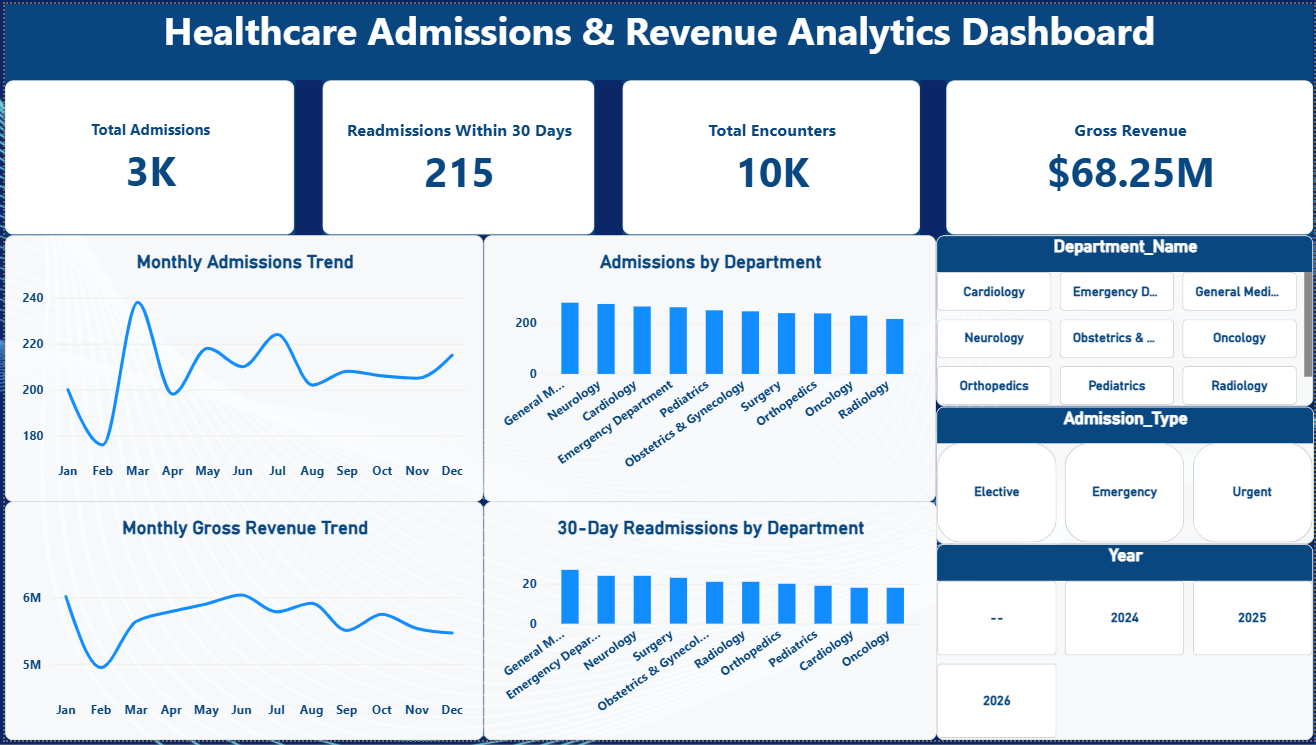

This screenshot's page, from the dashboard's own definition file:
{"tool":"powerbi","page":{"name":"Admissions & Revenue Cycle","canvas":[1280,720],"ordinal":0},"visuals":[{"type":"cardVisual","fields":{"Data":["Admissions.Total Admissions"]},"box":[0,74.6,283.7,151.6],"z":0},{"type":"cardVisual","fields":{"Data":["Admissions.Total Encounters"]},"box":[604.1,74.6,291,151.6],"z":1000},{"type":"cardVisual","fields":{"Data":["Admissions.Gross Revenue"]},"box":[920.8,74.6,359.5,151.6],"z":2000},{"type":"cardVisual","fields":{"Data":["Admissions.Readmissions Within 30 Days"]},"box":[310.6,74.6,266.6,151.6],"z":3000},{"type":"lineChart","title":"Monthly Admissions Trend","fields":{"Category":["DateTable.Month Short"],"Y":["Admissions.Total Admissions"]},"box":[0,226.2,468.3,260.5],"z":4000},{"type":"lineChart","title":"Monthly Gross Revenue Trend","fields":{"Category":["DateTable.Month Short"],"Y":["Admissions.Gross Revenue"]},"box":[0,486.7,468.3,233.6],"z":5000},{"type":"clusteredColumnChart","title":"Admissions by Department","fields":{"Category":["Departments.Department_Name"],"Y":["Admissions.Total Admissions"]},"box":[468.3,226.2,442.7,260.5],"z":6000},{"type":"clusteredColumnChart","title":"30-Day Readmissions by Department","fields":{"Y":["Admissions.Readmissions Within 30 Days"],"Category":["Departments.Department_Name"]},"box":[467.9,487.1,443.2,233.3],"z":7000},{"type":"advancedSlicerVisual","fields":{"Values":["Departments.Department_Name"]},"box":[911.2,226.4,369.1,167.4],"z":8000},{"type":"advancedSlicerVisual","fields":{"Values":["Admissions.Admission_Type"]},"box":[911,393.8,369.3,134.5],"z":9000},{"type":"advancedSlicerVisual","fields":{"Values":["DateTable.Year"]},"box":[911,528,369,192],"z":10000},{"type":"textbox","box":[0,0,1280.3,74.6],"z":11000}]}

Visuals, with their boxes in screenshot pixels (x1, y1, x2, y2), scaled from the page's 1280x720 canvas onto the 1316x745 screenshot:
cardVisual - Admissions.Total Admissions: box(0, 77, 292, 234)
cardVisual - Admissions.Total Encounters: box(621, 77, 920, 234)
cardVisual - Admissions.Gross Revenue: box(947, 77, 1315, 234)
cardVisual - Admissions.Readmissions Within 30 Days: box(319, 77, 593, 234)
"Monthly Admissions Trend" lineChart: box(0, 234, 481, 504)
"Monthly Gross Revenue Trend" lineChart: box(0, 504, 481, 744)
"Admissions by Department" clusteredColumnChart: box(481, 234, 937, 504)
"30-Day Readmissions by Department" clusteredColumnChart: box(481, 504, 937, 744)
advancedSlicerVisual - Departments.Department_Name: box(937, 234, 1315, 407)
advancedSlicerVisual - Admissions.Admission_Type: box(937, 407, 1315, 547)
advancedSlicerVisual - DateTable.Year: box(937, 546, 1315, 744)
textbox: box(0, 0, 1315, 77)
